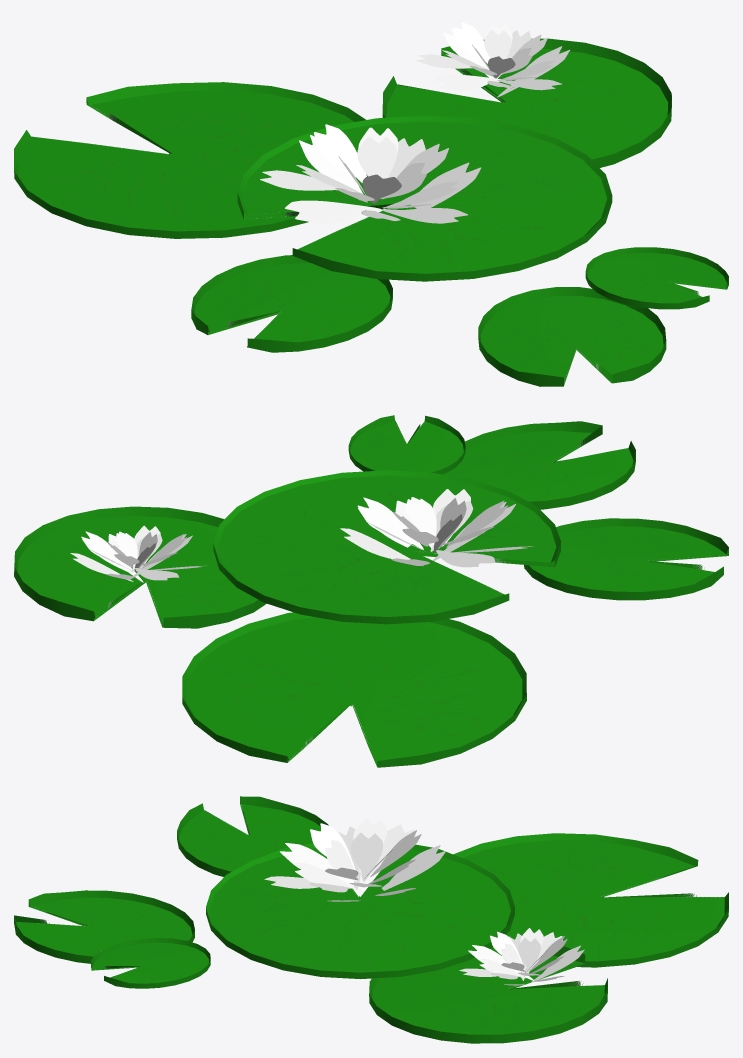
File: Lily_Pads.fbx
The picture shows the model from 3 angles, top to bottom: view 1: azimuth 30°, elevation 25°; view 2: azimuth 150°, elevation 25°; view 3: azimuth 270°, elevation 25°; orthographic projection. The views are drawn at different scales.
Parts seen in each view (by area): view 1: Pad, Pad3, Pad2, Pad1, Pad4, Lily_flower1_pPlane1, Pad5, Lily_flower2; view 2: Pad3, Pad, Pad2, Pad4, Pad1, Lily_flower1_pPlane1, Pad5, Lily_flower2; view 3: Pad, Pad3, Pad2, Pad1, Lily_flower1_pPlane1, Pad4, Pad5, Lily_flower2.
Boxes of the visible parts, x1=… form: Pad: x1=237, y1=115, x2=612, y2=281; Pad3: x1=14, y1=82, x2=365, y2=238; Pad2: x1=382, y1=38, x2=671, y2=167; Pad1: x1=478, y1=287, x2=666, y2=386; Pad4: x1=191, y1=255, x2=392, y2=352; Lily_flower1_pPlane1: x1=260, y1=124, x2=480, y2=223; Pad5: x1=585, y1=247, x2=728, y2=309; Lily_flower2: x1=416, y1=22, x2=569, y2=97; Pad3: x1=182, y1=612, x2=526, y2=767; Pad: x1=213, y1=470, x2=560, y2=624; Pad2: x1=14, y1=506, x2=266, y2=628; Pad4: x1=524, y1=518, x2=728, y2=600; Pad1: x1=443, y1=421, x2=635, y2=509; Lily_flower1_pPlane1: x1=340, y1=489, x2=533, y2=567; Pad5: x1=348, y1=415, x2=465, y2=474; Lily_flower2: x1=70, y1=525, x2=206, y2=582; Pad: x1=206, y1=843, x2=514, y2=978; Pad3: x1=453, y1=833, x2=728, y2=967; Pad2: x1=369, y1=946, x2=607, y2=1043; Pad1: x1=14, y1=890, x2=194, y2=963; Lily_flower1_pPlane1: x1=264, y1=818, x2=445, y2=901; Pad4: x1=177, y1=796, x2=328, y2=876; Pad5: x1=91, y1=938, x2=210, y2=988; Lily_flower2: x1=459, y1=928, x2=584, y2=985.
Size of the model in its own units: 5.05 by 0.9261 by 6.37.
